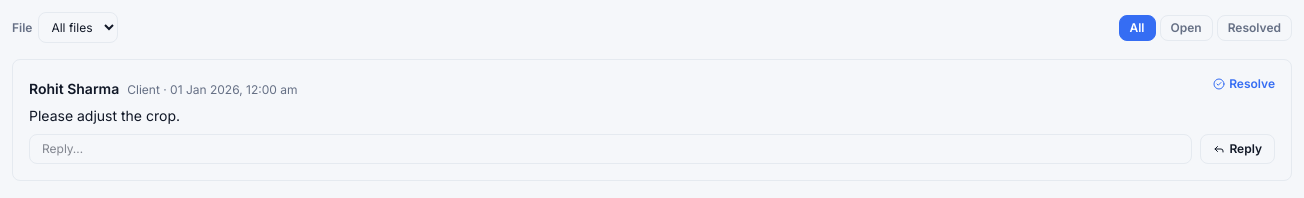
it: CommentsTab resolve › resolving shows Resolved locally with no page reload, and the Resolve control disappears
Click the button "Resolve".
click(1244, 84)  # box [1213,76,1275,92]
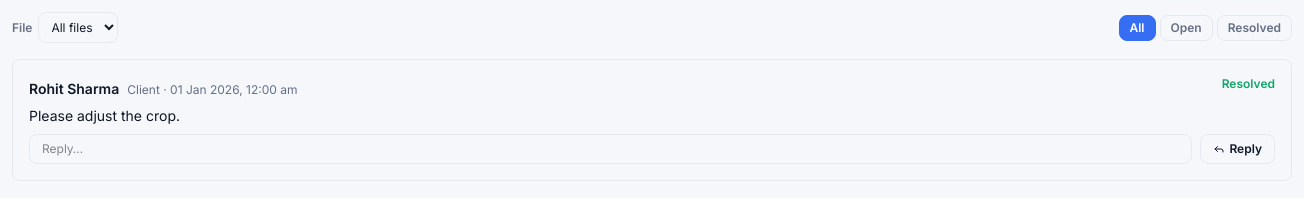
Expected: the text "Resolved" is shown, [1222,76,1275,92]
